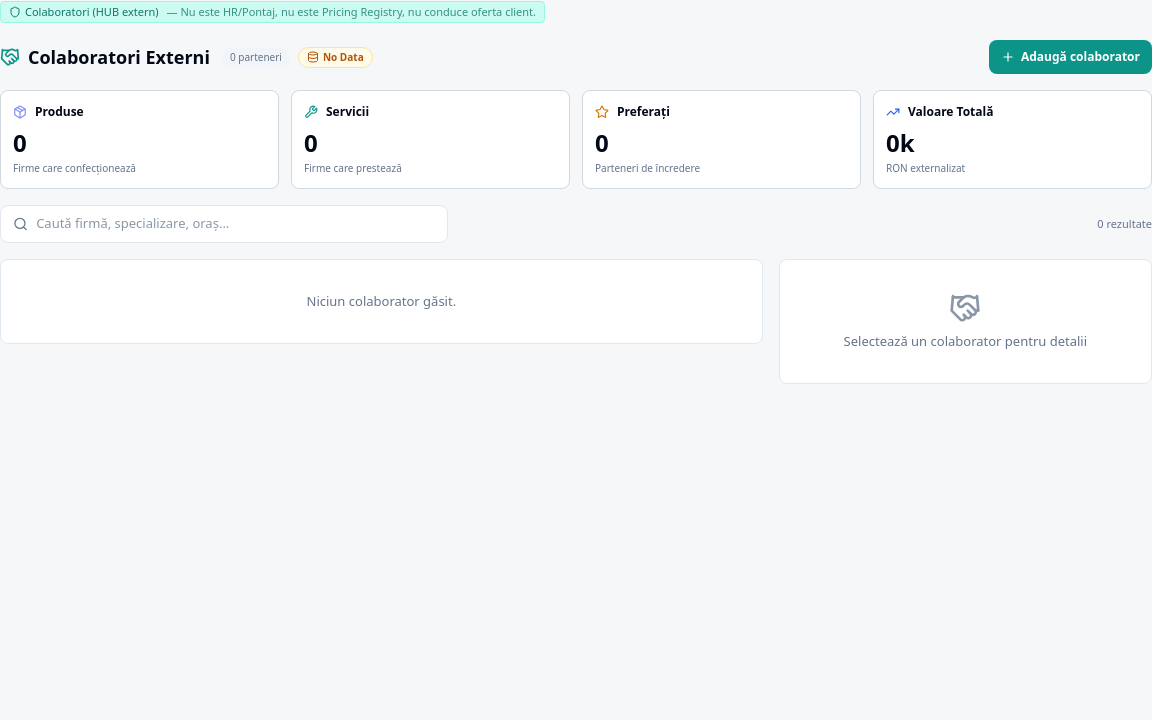
BUILD 27.09 operational CRUD recovery › surfaces collaborator create errors from suppliers backend
Click the button "Adaugă colaborator" at (1070, 57), box [989,40,1151,74]
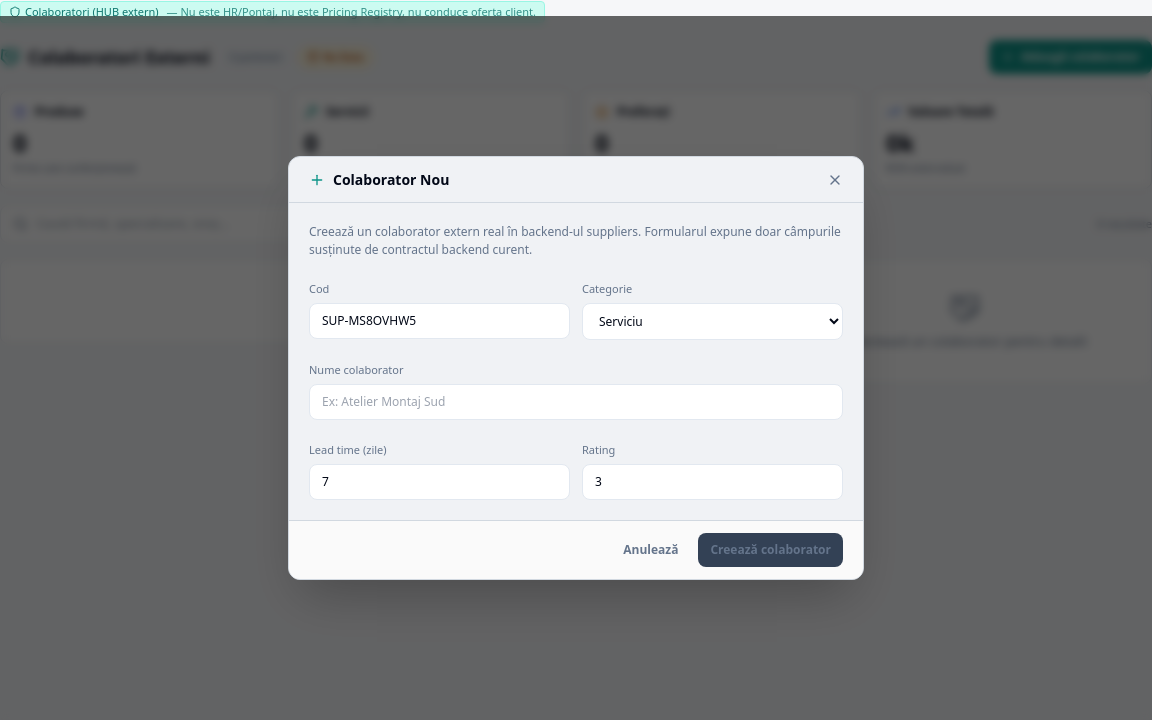
Type "Atelier Blocant" into the field labelled "Nume colaborator" at (576, 402), box [309,384,843,420]
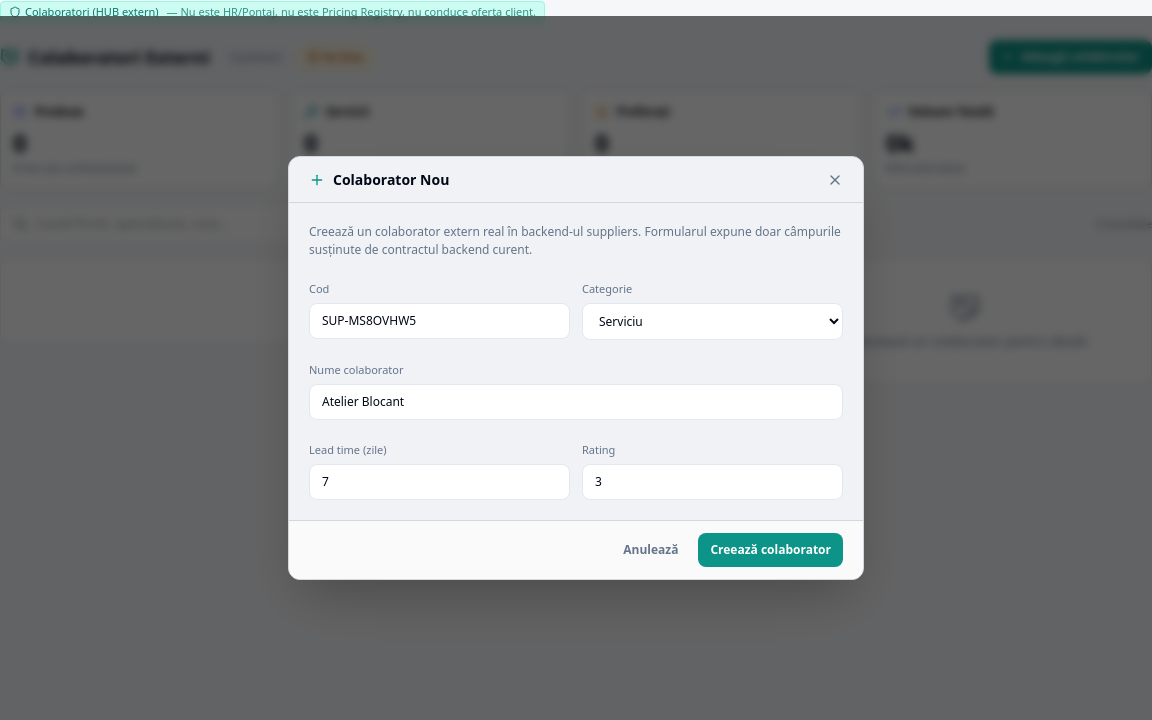
Click the button "Creează colaborator" at (771, 550), box [698,533,843,567]
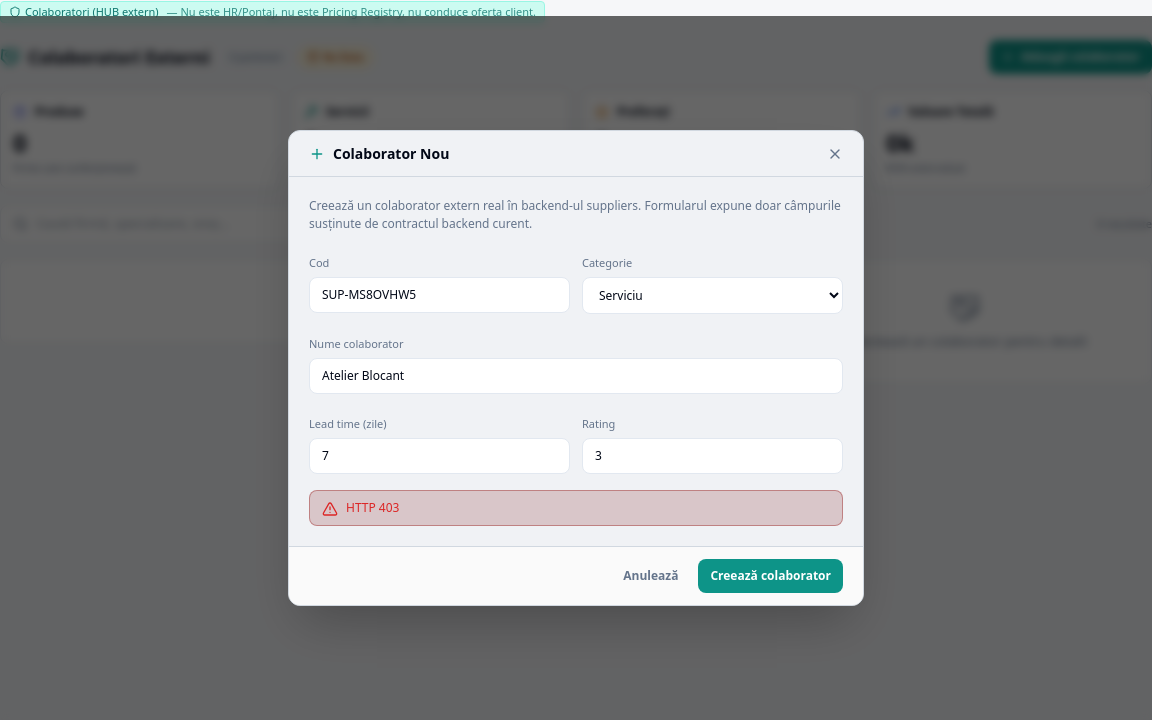
Check: the text "HTTP 403" is shown, box [346,499,400,517]
